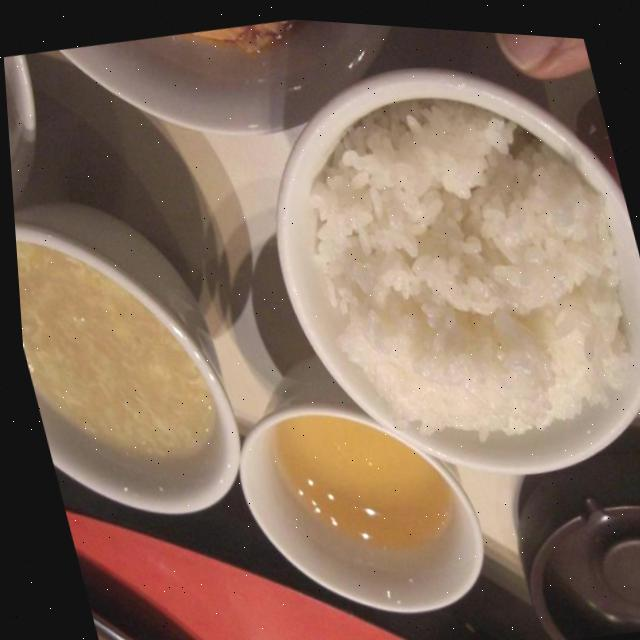米饭主食: (226, 18, 640, 532)
